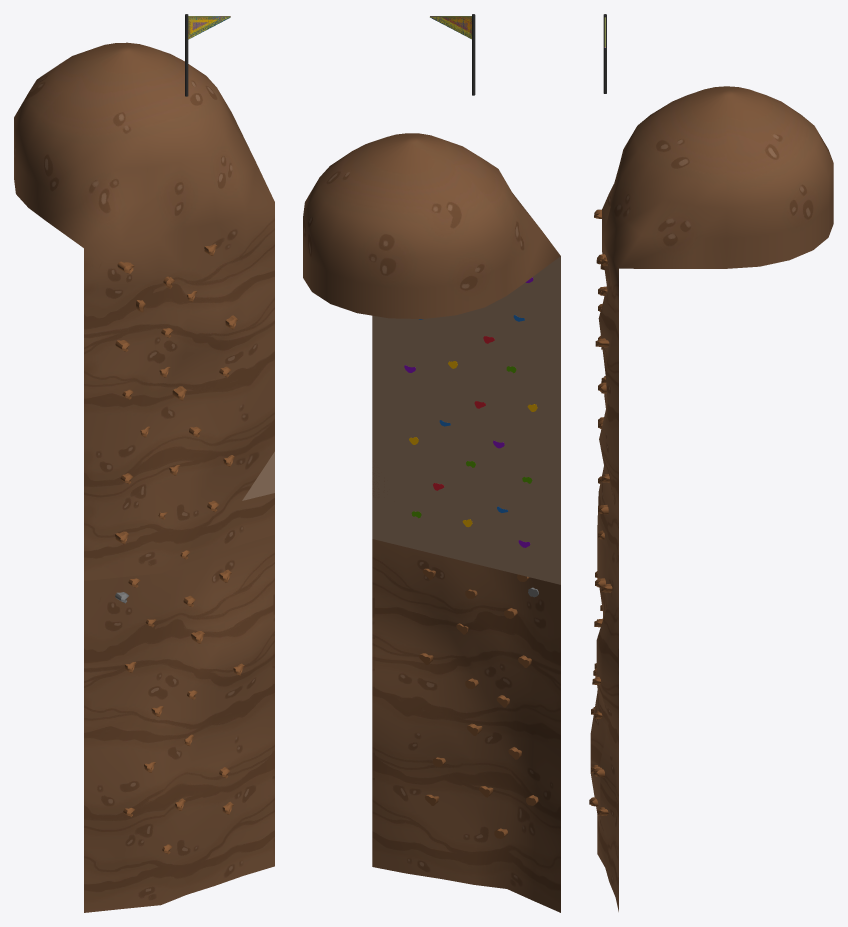
The model's file is theClimbRace_props.fbx.
The picture shows the model from 3 angles, left to right: view 1: azimuth 30°, elevation 25°; view 2: azimuth 150°, elevation 25°; view 3: azimuth 270°, elevation 25°; orthographic projection. The views are drawn at different scales.
Visible parts, largest first — view 1: MountainTop, MountainWall, Flag1, ClimbingWall; view 2: MountainWall, ClimbingWall, MountainTop, Flag1, Flag3; view 3: MountainTop, MountainWall.
Part boxes in pixels (left/top/right/bottom): MountainTop: left=14, top=42, right=274, bottom=580; MountainWall: left=84, top=534, right=274, bottom=912; Flag1: left=185, top=14, right=230, bottom=96; ClimbingWall: left=242, top=451, right=274, bottom=500; MountainWall: left=372, top=539, right=560, bottom=912; ClimbingWall: left=372, top=256, right=560, bottom=584; MountainTop: left=303, top=133, right=560, bottom=496; Flag1: left=430, top=14, right=474, bottom=94; Flag3: left=430, top=15, right=473, bottom=94; MountainTop: left=597, top=86, right=833, bottom=590; MountainWall: left=590, top=533, right=618, bottom=911.
Size of the model in its own units: 603 by 2645 by 687.
